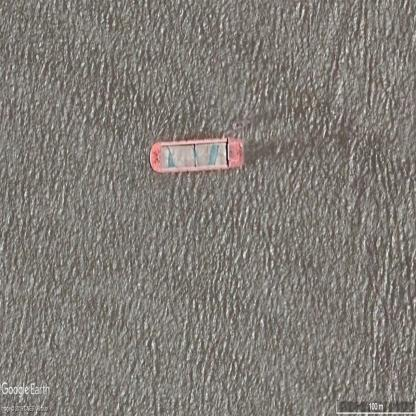ship: (149, 138, 244, 171)
